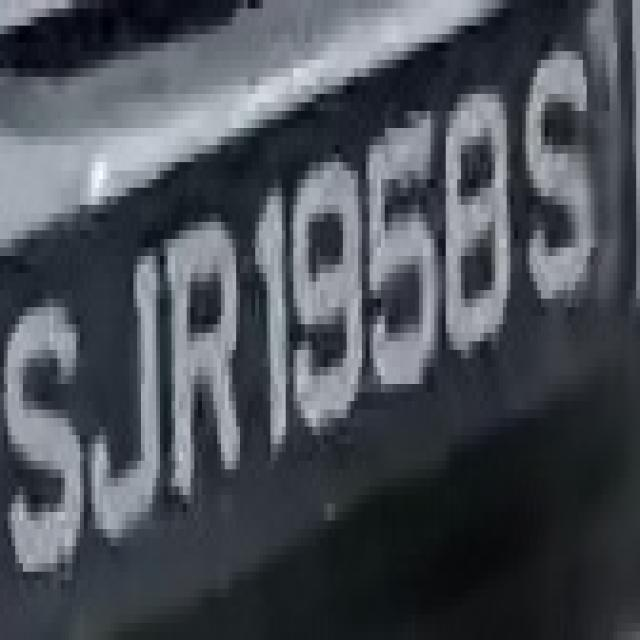1: (255, 162, 290, 487)
5: (362, 111, 453, 418)
8: (431, 43, 518, 367)
9: (282, 136, 369, 444)
J: (80, 239, 168, 529)
R: (168, 213, 244, 512)
S: (0, 256, 88, 597), (518, 42, 602, 332)
